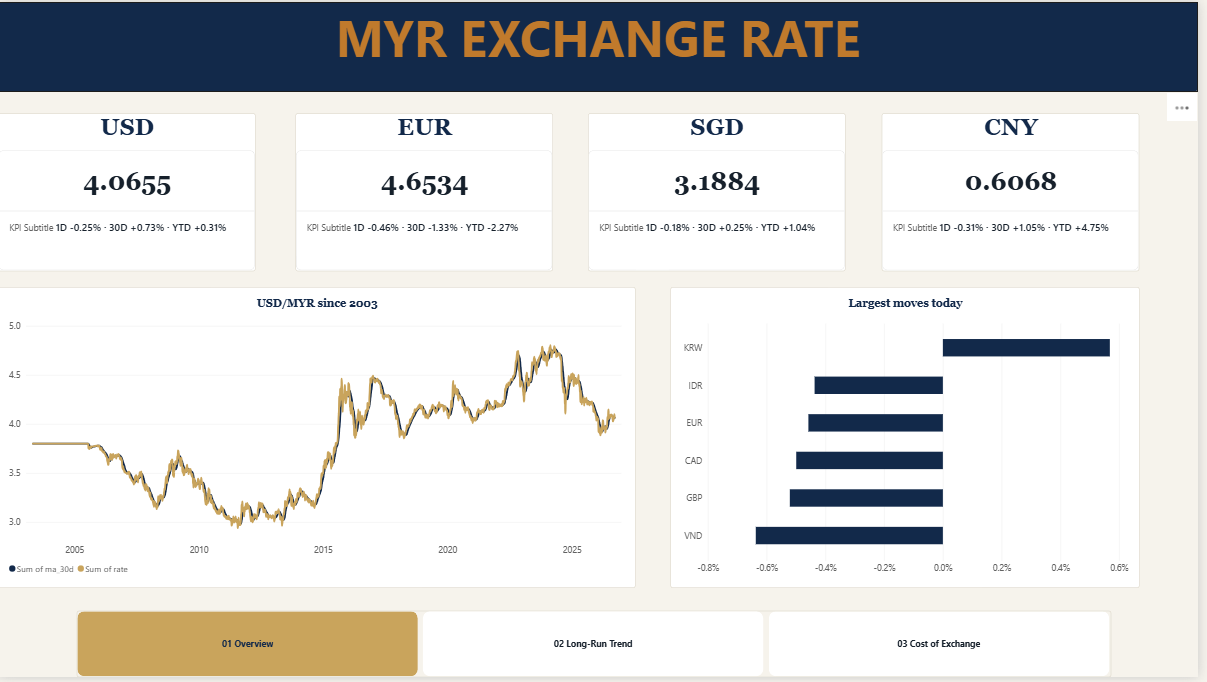

What the dashboard file says about the page in this screenshot:
{"tool":"powerbi","page":{"name":"01 Overview","canvas":[1920,1080],"ordinal":0},"visuals":[{"type":"cardVisual","title":"USD","fields":{"Data":["public exchange_rates.Latest Rate"]},"box":[0,177.9,412.1,253.1],"z":0},{"type":"cardVisual","title":"EUR","fields":{"Data":["public exchange_rates.Latest Rate"]},"box":[475.4,177.9,412.1,253.1],"z":1000},{"type":"cardVisual","title":"SGD","fields":{"Data":["public exchange_rates.Latest Rate"]},"box":[944.4,177.9,412.1,253.1],"z":2000},{"type":"cardVisual","title":"CNY","fields":{"Data":["public exchange_rates.Latest Rate"]},"box":[1413.5,177.9,412.1,253.1],"z":3000},{"type":"pageNavigator","box":[125,973.3,1655,106.7],"z":4000},{"type":"lineChart","title":"USD/MYR since 2003","fields":{"Category":["Date.Date"],"Y":["Sum(public v_moving_avg_30d.ma_30d)","Sum(public v_moving_avg_30d.rate)"]},"box":[0,456.7,1020,481.7],"z":5000},{"type":"textbox","box":[0,0,1920.3,143.2],"z":6000},{"type":"clusteredBarChart","title":"Largest moves today","fields":{"Category":["Currency.currency"],"Y":["public exchange_rates.Move Today %"]},"box":[1075,456.7,750,481.7],"z":7000}]}

Visuals, with their boxes in screenshot pixels (x1, y1, x2, y2), scaled from the page's 1920x1080 canvas onto the 1207x682 screenshot:
"USD" cardVisual: {"x1": 0, "y1": 112, "x2": 259, "y2": 272}
"EUR" cardVisual: {"x1": 299, "y1": 112, "x2": 558, "y2": 272}
"SGD" cardVisual: {"x1": 594, "y1": 112, "x2": 853, "y2": 272}
"CNY" cardVisual: {"x1": 889, "y1": 112, "x2": 1148, "y2": 272}
pageNavigator: {"x1": 79, "y1": 615, "x2": 1119, "y2": 681}
"USD/MYR since 2003" lineChart: {"x1": 0, "y1": 288, "x2": 641, "y2": 593}
textbox: {"x1": 0, "y1": 0, "x2": 1206, "y2": 90}
"Largest moves today" clusteredBarChart: {"x1": 676, "y1": 288, "x2": 1147, "y2": 593}
